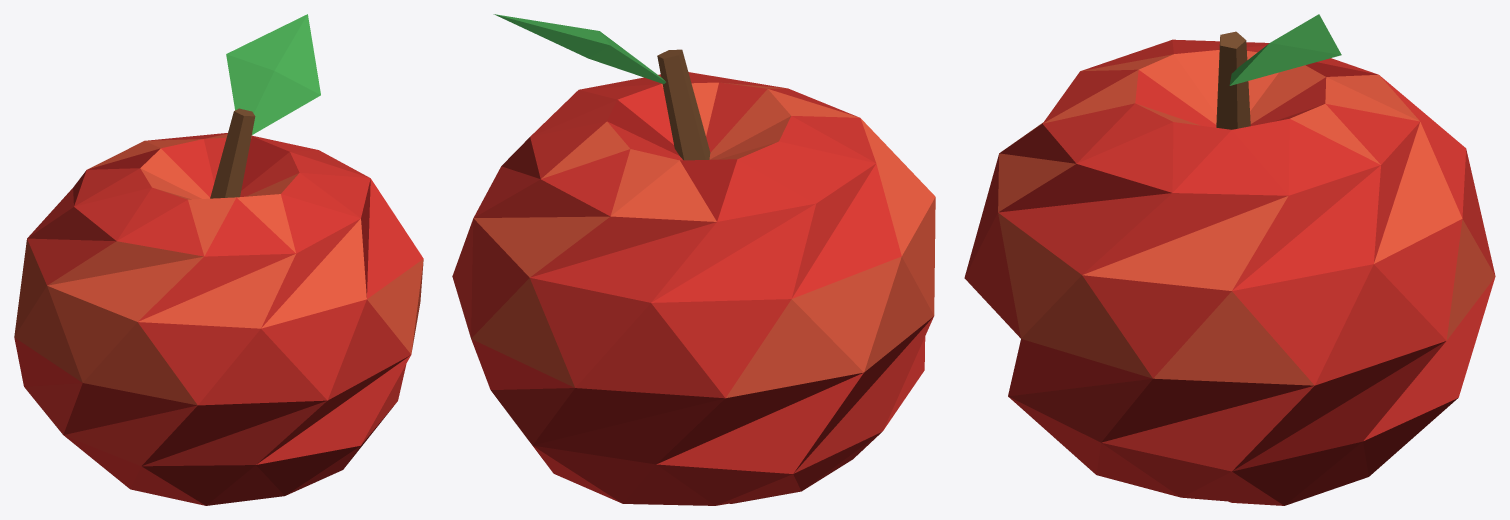
The model's file is Apple_Red.glb.
The picture shows the model from 3 angles, left to right: view 1: azimuth 30°, elevation 25°; view 2: azimuth 150°, elevation 25°; view 3: azimuth 270°, elevation 25°; orthographic projection. The views are drawn at different scales.
Parts seen in each view (by area): view 1: Apple_Red_Mesh; view 2: Apple_Red_Mesh; view 3: Apple_Red_Mesh.
Boxes of the visible parts, bbox=[...] form: Apple_Red_Mesh: bbox=[14, 14, 423, 505]; Apple_Red_Mesh: bbox=[452, 14, 935, 505]; Apple_Red_Mesh: bbox=[964, 14, 1495, 505].
Bounding box in the file's own units: 0.3498 × 0.3767 × 0.3684.
1 material, 1 textured.
